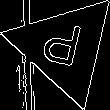P_S: (41, 19, 89, 76)
